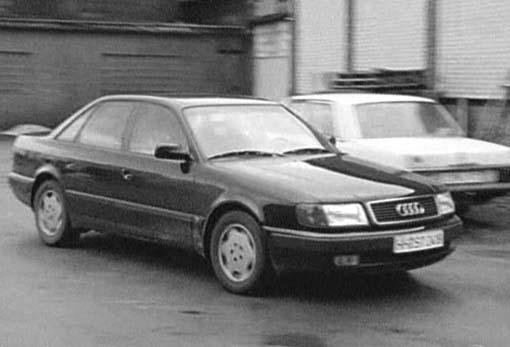car: (7, 91, 463, 296)
